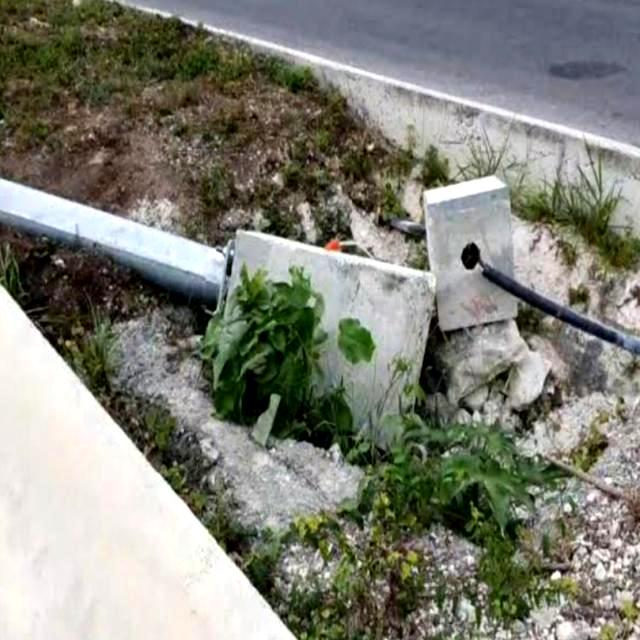Broken Pole: (0, 175, 639, 469)
